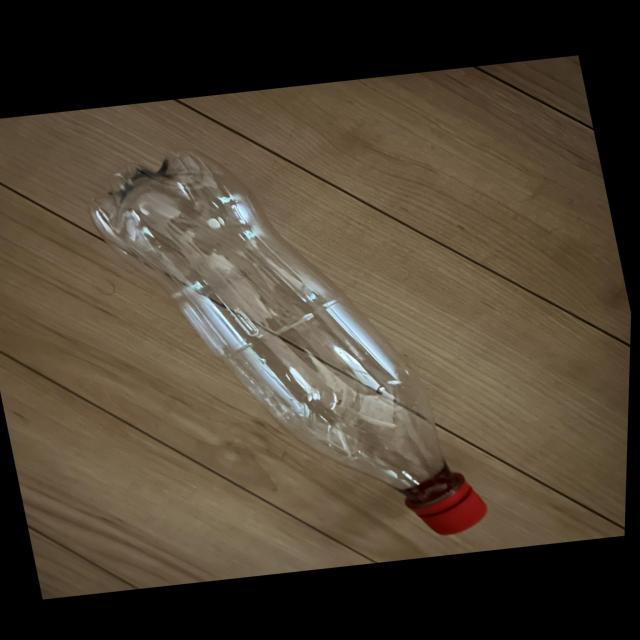empty: (91, 153, 486, 534)
